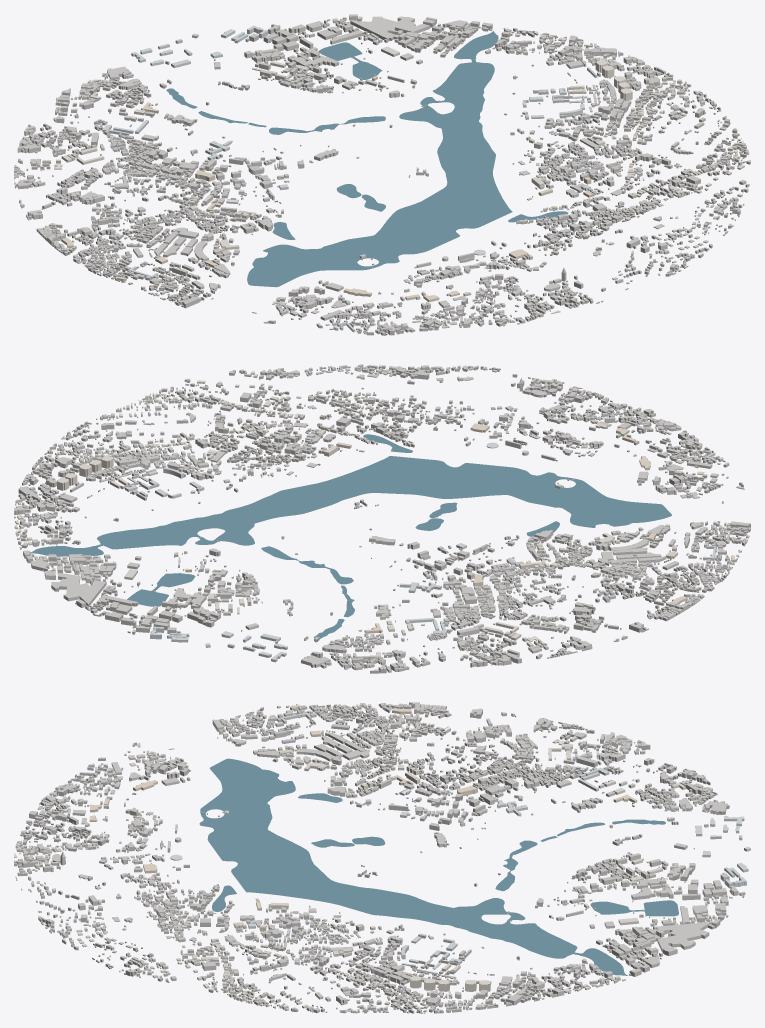
The model's file is dalat-city.glb.
The picture shows the model from 3 angles, top to bottom: view 1: azimuth 30°, elevation 25°; view 2: azimuth 150°, elevation 25°; view 3: azimuth 270°, elevation 25°; orthographic projection.
Visible parts, largest first — view 1: BUILDINGS_OTHER, WATER, BUILDINGS_RESIDENTIAL, BUILDINGS_PUBLIC, BUILDINGS_COMMERCIAL; view 2: BUILDINGS_OTHER, WATER, BUILDINGS_RESIDENTIAL, BUILDINGS_PUBLIC, BUILDINGS_COMMERCIAL; view 3: BUILDINGS_OTHER, WATER, BUILDINGS_RESIDENTIAL, BUILDINGS_PUBLIC, BUILDINGS_COMMERCIAL.
Part boxes in pixels (x1,y1,x2,y2): BUILDINGS_OTHER: [14, 14, 750, 335]; WATER: [166, 31, 568, 287]; BUILDINGS_RESIDENTIAL: [42, 30, 746, 249]; BUILDINGS_PUBLIC: [92, 25, 590, 332]; BUILDINGS_COMMERCIAL: [61, 67, 738, 314]; BUILDINGS_OTHER: [14, 364, 750, 673]; WATER: [30, 434, 671, 638]; BUILDINGS_RESIDENTIAL: [14, 371, 648, 659]; BUILDINGS_PUBLIC: [125, 433, 723, 662]; BUILDINGS_COMMERCIAL: [124, 386, 736, 633]; BUILDINGS_OTHER: [14, 702, 745, 1013]; WATER: [199, 758, 678, 975]; BUILDINGS_RESIDENTIAL: [132, 726, 685, 1013]; BUILDINGS_PUBLIC: [79, 712, 750, 969]; BUILDINGS_COMMERCIAL: [14, 704, 659, 1003].
Bounding box in the file's own units: 2520 × 92.9 × 2509.
